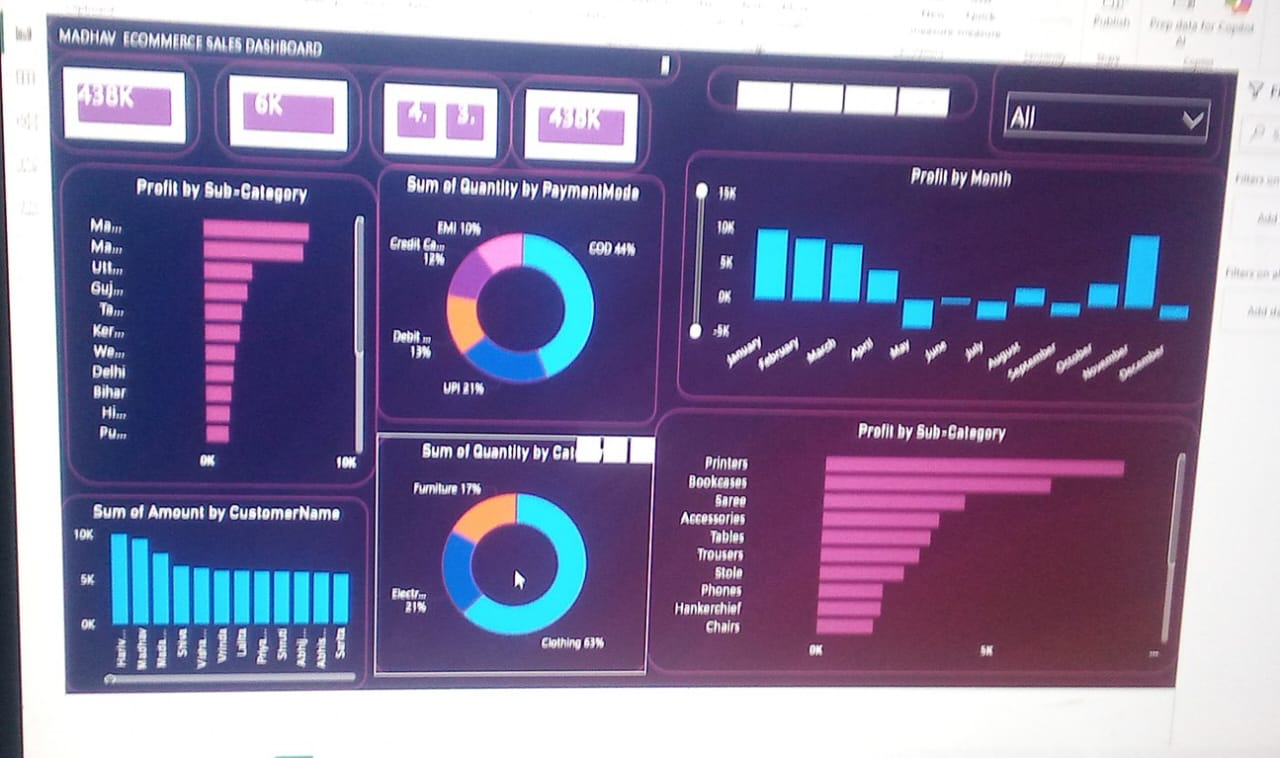

The page's visual inventory and layout, read from the dashboard file:
{"tool":"powerbi","page":{"name":"Page 1","canvas":[1280,720],"ordinal":0},"visuals":[{"type":"columnChart","title":" Profit by Month","fields":{"Category":["Orders.Order Date.Variation.Date Hierarchy.Month"],"Y":["Sum(Details.Profit)"]},"box":[662.9,108.8,617.1,271],"z":0},{"type":"barChart","title":" Profit by Sub-Category","fields":{"Category":["Details.Sub-Category"],"Y":["Sum(Details.Profit)"]},"box":[640,393.3,640,308.9],"z":1000},{"type":"donutChart","fields":{"Category":["Details.Category"],"Y":["Sum(Details.Quantity)"]},"box":[331.1,426.7,308.9,275.6],"z":2000},{"type":"donutChart","fields":{"Y":["Sum(Details.Quantity)"],"Category":["Details.PaymentMode"]},"box":[330.9,137.1,309.1,274.3],"z":3000},{"type":"cardVisual","fields":{"Data":["Sum(Details.Amount)","Sum(Details.Profit)"]},"box":[322.4,38.8,149.4,97.6],"z":4000},{"type":"cardVisual","fields":{"Data":["Sum(Details.Quantity)"]},"box":[164.7,38.8,149.4,97.6],"z":5000},{"type":"cardVisual","fields":{"Data":["Sum(Details.Amount)"]},"box":[0,38.8,149.4,97.6],"z":6000},{"type":"cardVisual","fields":{"Data":["Sum(Details.Amount)"]},"box":[471.3,38.1,150.2,98],"z":7000},{"type":"barChart","title":" Profit by Sub-Category","fields":{"Y":["Sum(Details.Profit)"],"Category":["Orders.State"]},"box":[8.7,149.1,322.2,337.4],"z":8000},{"type":"columnChart","fields":{"Category":["Orders.CustomerName"],"Y":["Sum(Details.Amount)"]},"box":[0,498.9,322.3,221.3],"z":9000},{"type":"textbox","box":[0,0,650.9,38.1],"z":10000},{"type":"slicer","fields":{"Values":["Orders.Order Date.Variation.Date Hierarchy.Quarter"]},"box":[682.4,19.6,300.4,42.4],"z":11000},{"type":"slicer","fields":{"Values":["Orders.State"]},"box":[1000.3,0,267.8,101.2],"z":12000}]}

Visuals, with their boxes on the page's 1280x720 design canvas (x1, y1, x2, y2). These are canvas units, not pixel positions in the 1280x758 screenshot, which may show the page scaled, cropped or inside an application window:
" Profit by Month" columnChart: bbox=[663, 109, 1280, 380]
" Profit by Sub-Category" barChart: bbox=[640, 393, 1280, 702]
donutChart - Details.Category x Sum(Details.Quantity): bbox=[331, 427, 640, 702]
donutChart - Sum(Details.Quantity) x Details.PaymentMode: bbox=[331, 137, 640, 411]
cardVisual - Sum(Details.Amount) x Sum(Details.Profit): bbox=[322, 39, 472, 136]
cardVisual - Sum(Details.Quantity): bbox=[165, 39, 314, 136]
cardVisual - Sum(Details.Amount): bbox=[0, 39, 149, 136]
cardVisual - Sum(Details.Amount): bbox=[471, 38, 622, 136]
" Profit by Sub-Category" barChart: bbox=[9, 149, 331, 486]
columnChart - Orders.CustomerName x Sum(Details.Amount): bbox=[0, 499, 322, 720]
textbox: bbox=[0, 0, 651, 38]
slicer - Orders.Order Date.Variation.Date Hierarchy.Quarter: bbox=[682, 20, 983, 62]
slicer - Orders.State: bbox=[1000, 0, 1268, 101]
